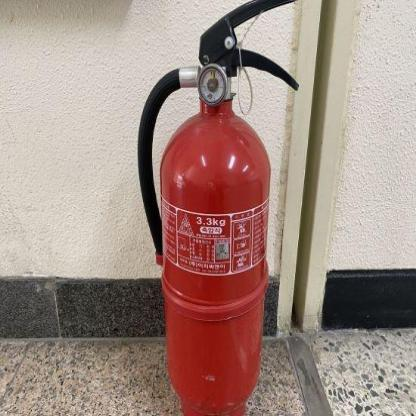Fire Extinguisher: (127, 0, 309, 414)
